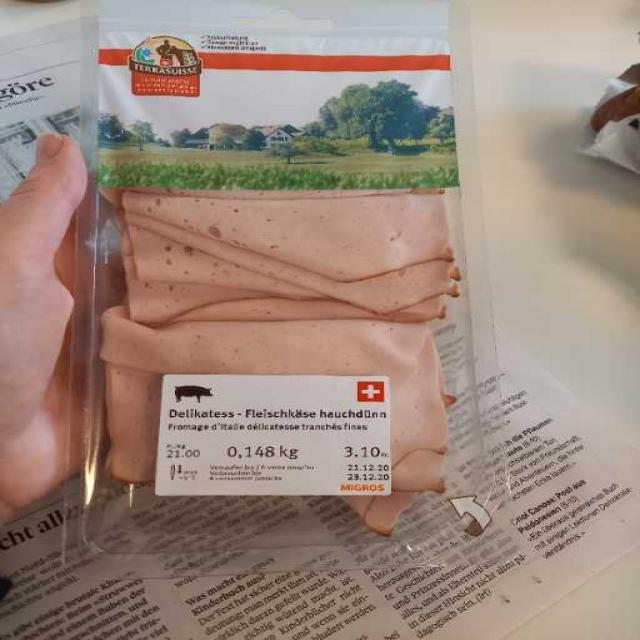meatloaf: (102, 185, 461, 521)
